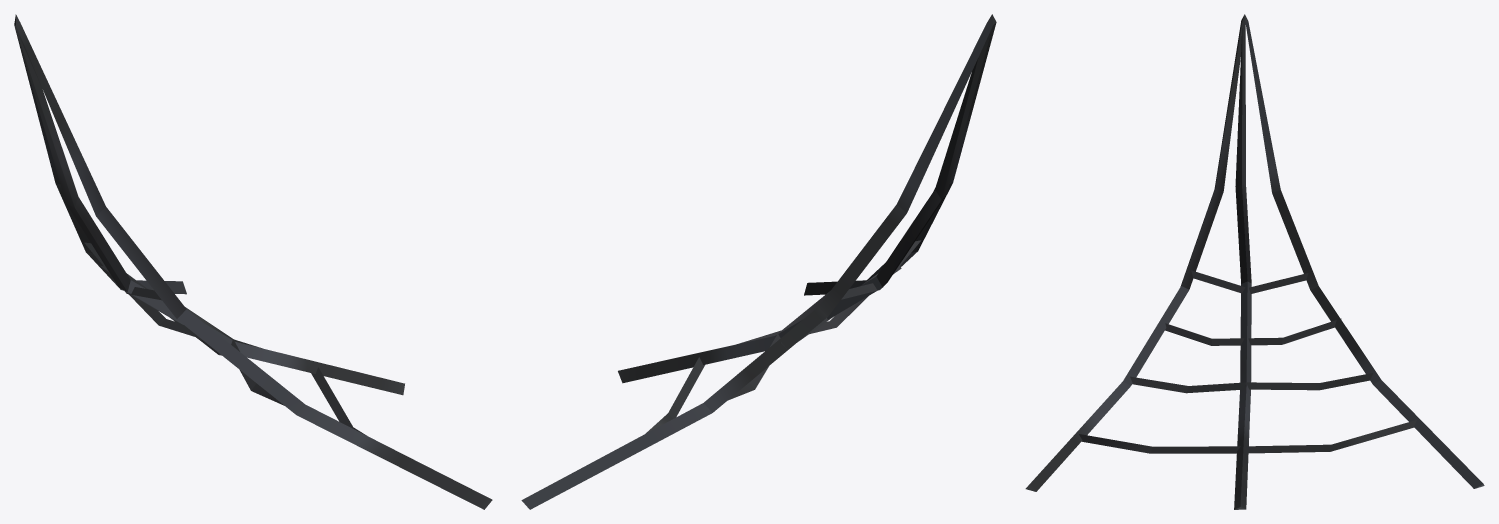
The model's file is Cobweb.fbx.
The picture shows the model from 3 angles, left to right: view 1: azimuth 30°, elevation 25°; view 2: azimuth 150°, elevation 25°; view 3: azimuth 270°, elevation 25°; orthographic projection. The views are drawn at different scales.
Parts seen in each view (by area): view 1: Cobweb; view 2: Cobweb; view 3: Cobweb.
Boxes of the visible parts, x1,y1,x2,y2 form: Cobweb: [14, 14, 492, 509]; Cobweb: [521, 14, 996, 509]; Cobweb: [1025, 14, 1484, 509].
Bounding box in the file's own units: 0.3132 × 0.3617 × 0.4231.
